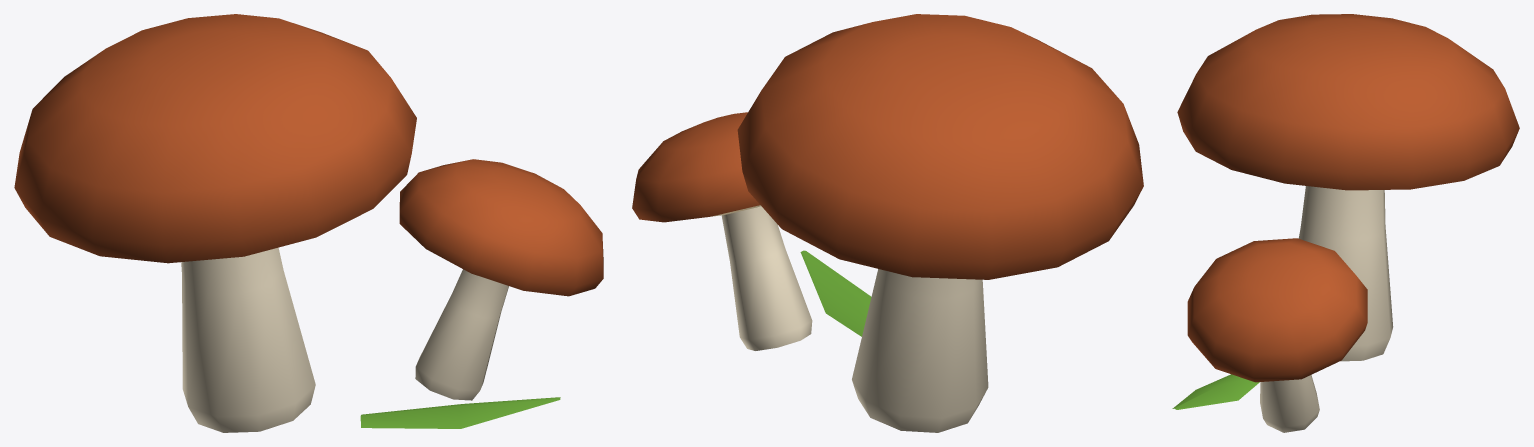
Rendered from mushroom-item.glb.
3 views of the same model, side by side, from view 1: azimuth 30°, elevation 25°; view 2: azimuth 150°, elevation 25°; view 3: azimuth 270°, elevation 25° (orthographic). The views are drawn at different scales.
Visible parts, largest first — view 1: Mushroom Mushroom cap, Mushroom Mushroom stem, Mushroom Leaves; view 2: Mushroom Mushroom cap, Mushroom Mushroom stem, Mushroom Leaves; view 3: Mushroom Mushroom cap, Mushroom Mushroom stem, Mushroom Leaves.
Part boxes in pixels (x1,y1,x2,y2): Mushroom Mushroom cap: (14, 14, 603, 296); Mushroom Mushroom stem: (181, 247, 508, 432); Mushroom Leaves: (360, 397, 560, 428); Mushroom Mushroom cap: (632, 14, 1143, 279); Mushroom Mushroom stem: (721, 206, 988, 432); Mushroom Leaves: (800, 250, 871, 336); Mushroom Mushroom cap: (1177, 14, 1519, 382); Mushroom Mushroom stem: (1260, 186, 1393, 432); Mushroom Leaves: (1172, 374, 1259, 409).
Size of the model in its own units: 0.3219 by 0.2237 by 0.2276.
